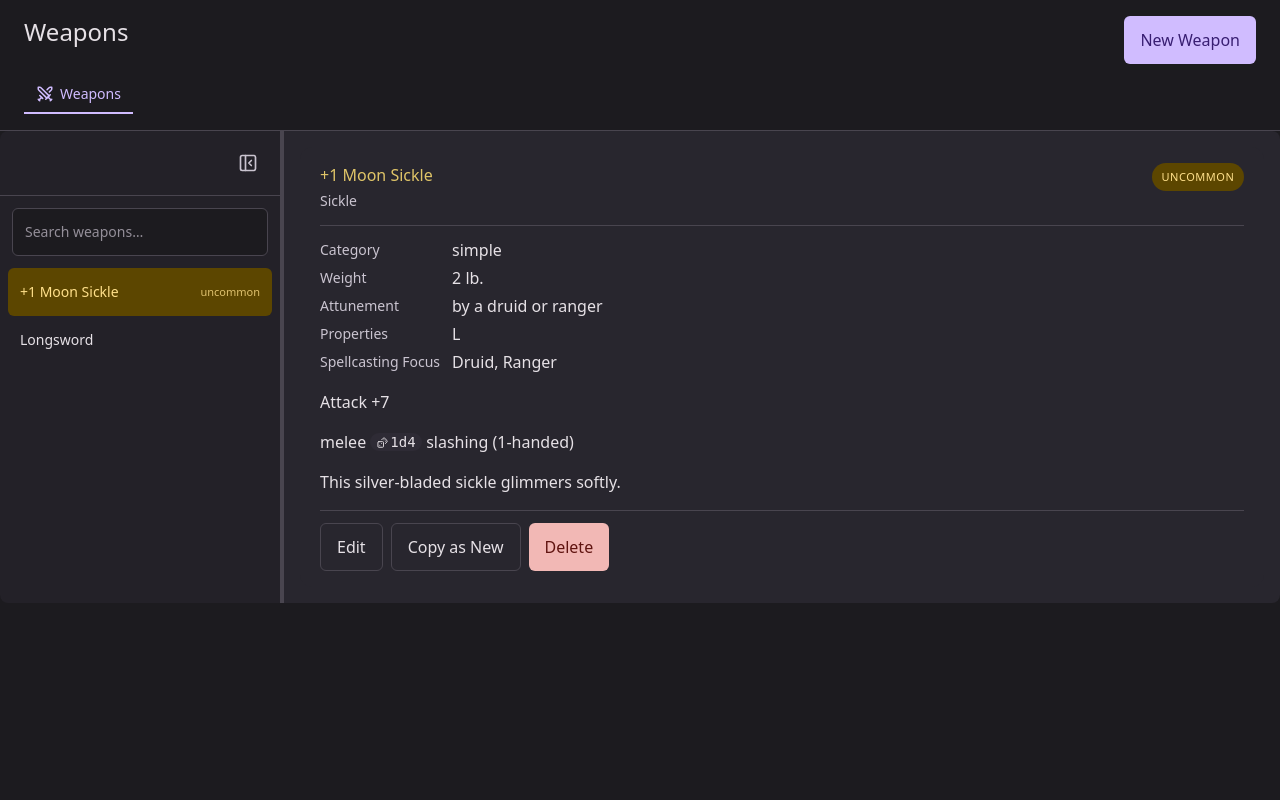
Test case: WeaponBrowserPage › names affected characters when deleting an assigned weapon
The width and height of the screenshot is (1280, 800).
Expected: the text "Longsword" is shown, [20,330,93,350]
Click the button "Longsword" at (57, 340), box [8,316,272,364]
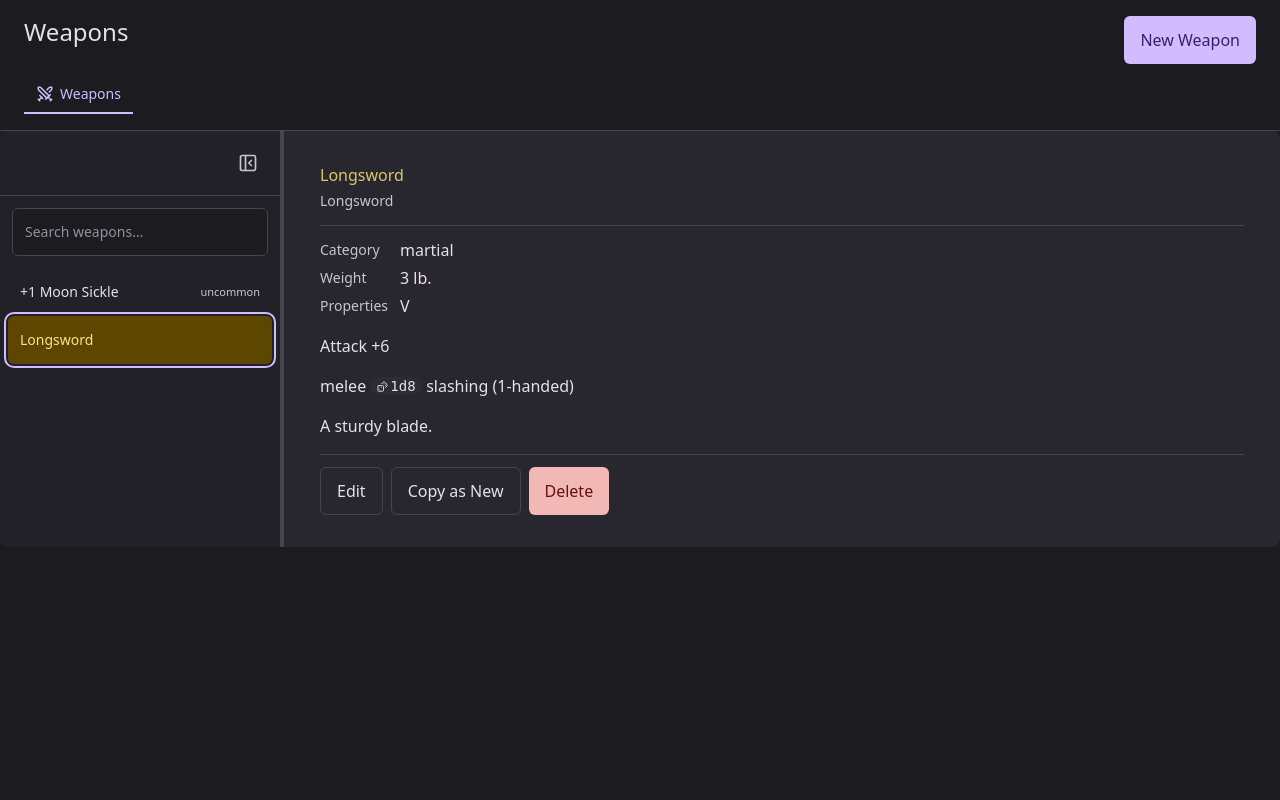
Click the button "Delete" at (569, 491), box [528,467,609,515]
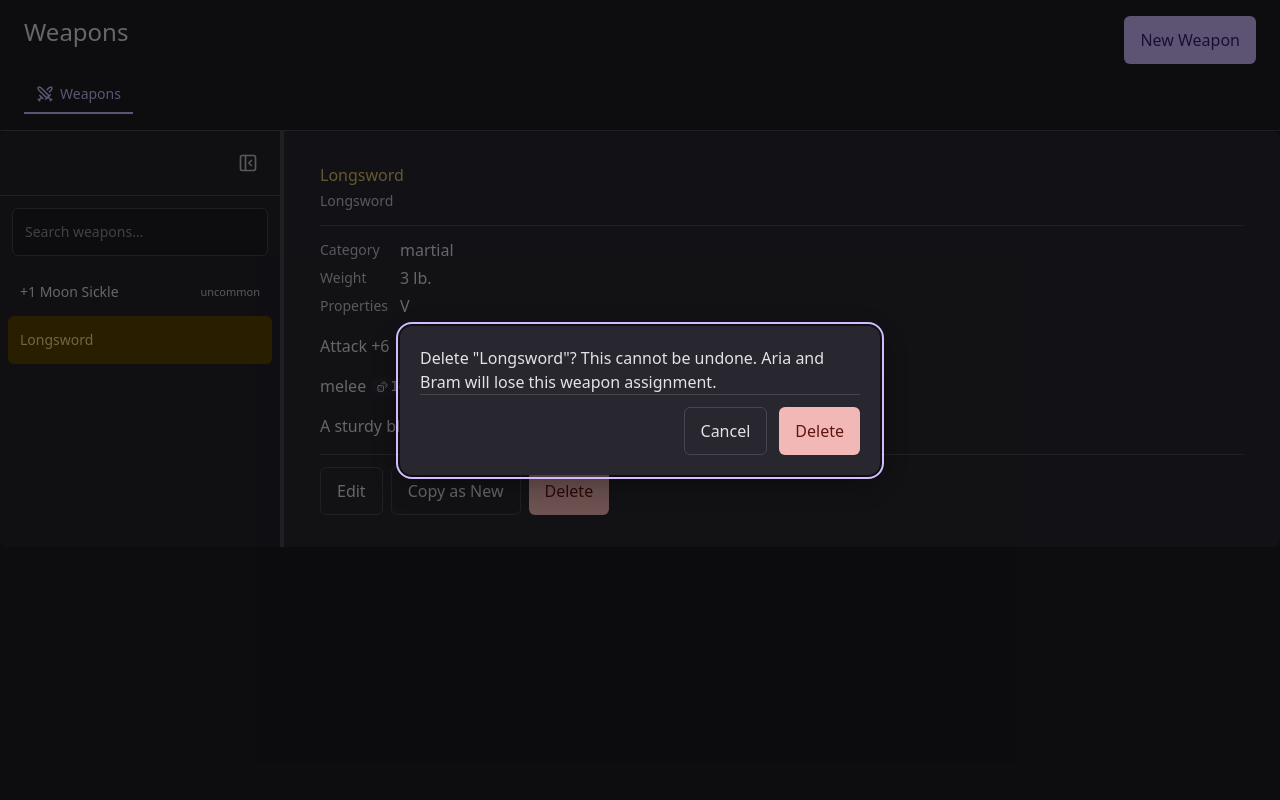
Result: the dialog named "Delete \"Longsword\"? This cannot be undone. Aria and Bram will lose this weapon assignment." is shown at [400,326,880,474]
